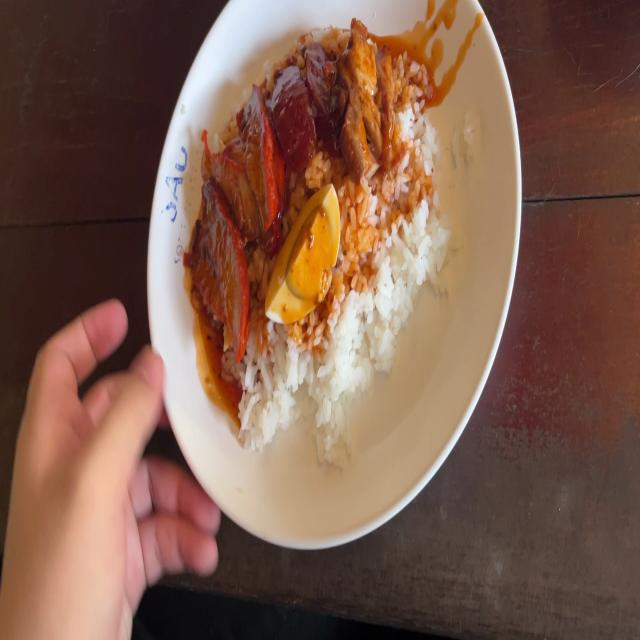01boiled_egg: (267, 181, 339, 328)
01chainese_sausage: (274, 44, 334, 158)
01crispy_pork: (342, 29, 396, 172)
01red_pork: (202, 88, 276, 352)
01red_pork_and_crispy_pork: (201, 32, 444, 424)
01rice: (344, 180, 445, 359), (246, 330, 340, 456), (396, 53, 442, 173)
